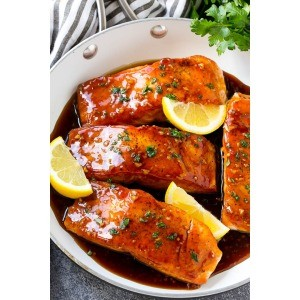salmon_brain food: (64, 56, 234, 268)
